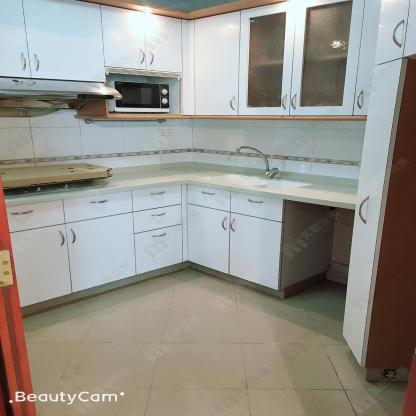Cupboard: (7, 183, 291, 306)
Exhaust Hood: (0, 76, 121, 108)
Faucet: (232, 143, 280, 179)
Microwave: (110, 81, 172, 112)
Sink: (197, 172, 318, 191)
